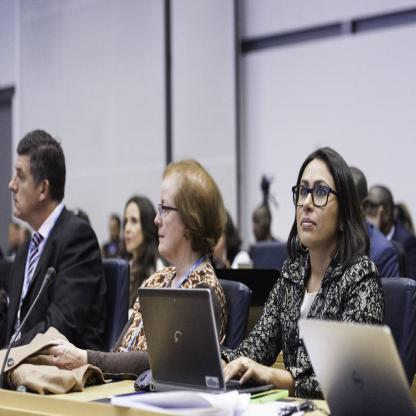board: (136, 287, 260, 396), (298, 321, 416, 416)
